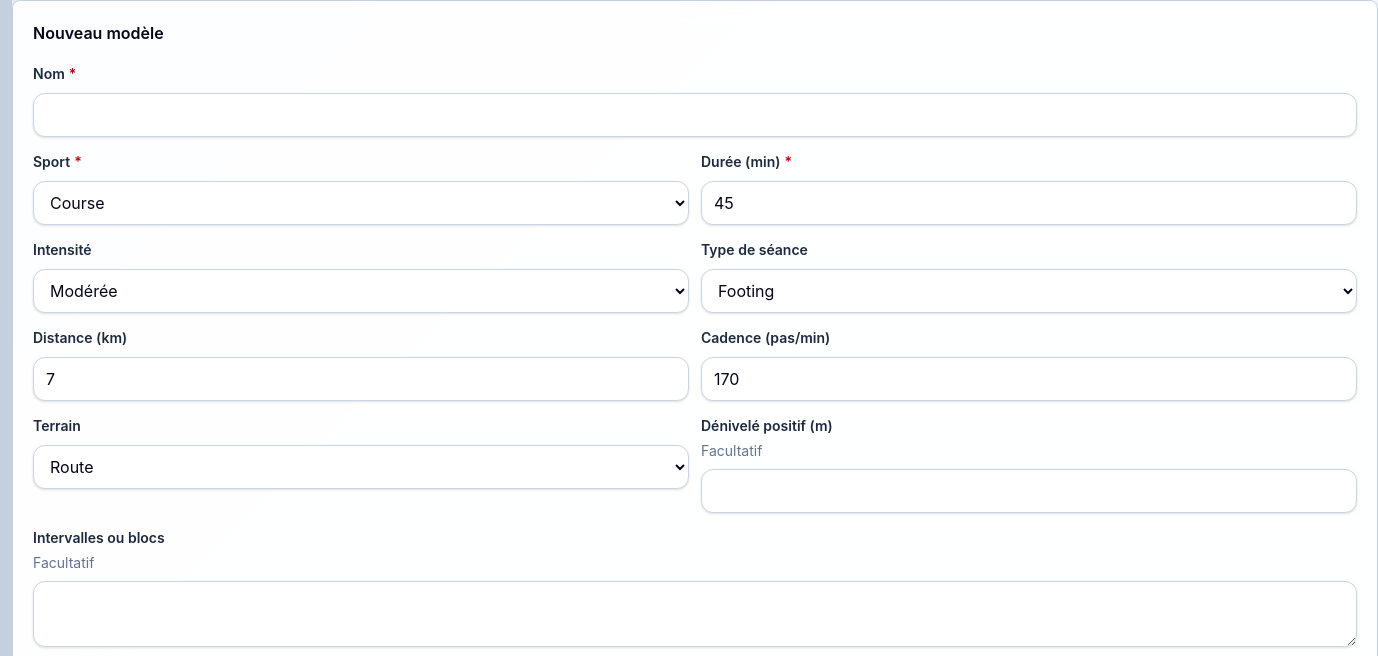
Test case: EnduranceTemplatesPage › affiche les modèles par défaut et enregistre un modèle vélo
Type "Vélo souple" into the field labelled "Nom*" at (695, 115), box [33,93,1357,137]
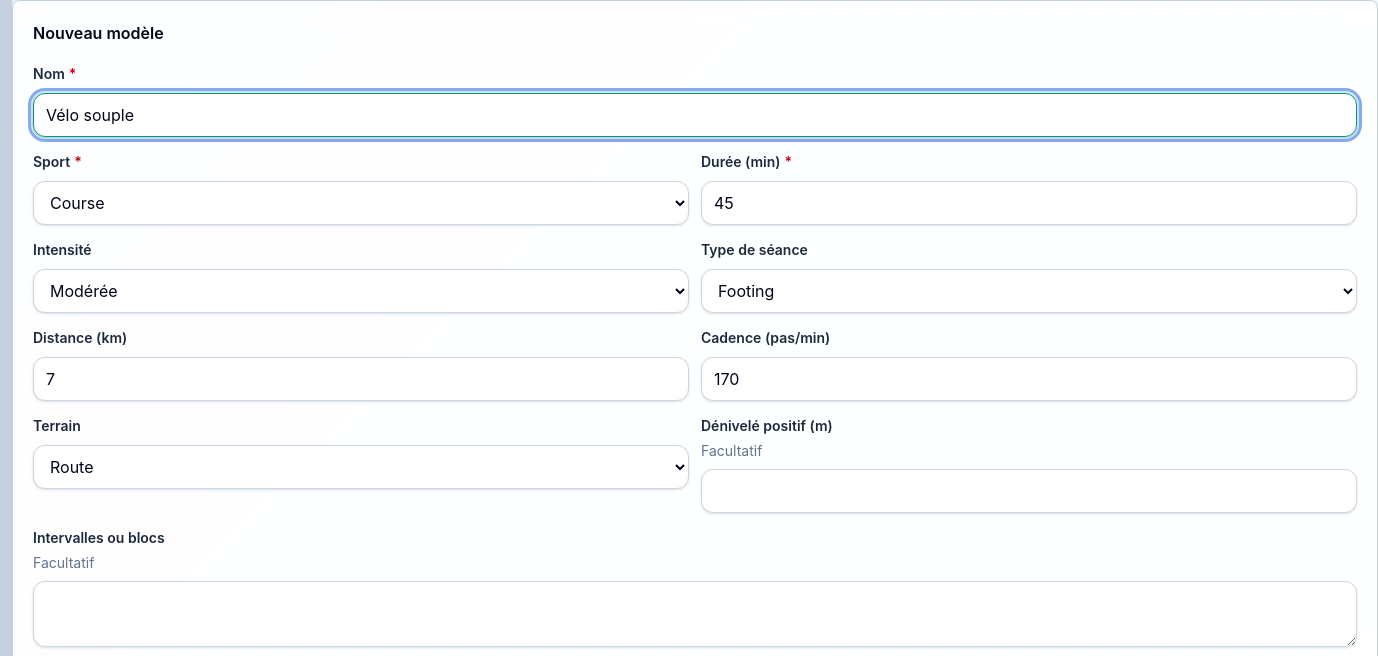
Select "Vélo" in the dropdown labelled "Sport*" at (361, 203), box [33,181,689,225]
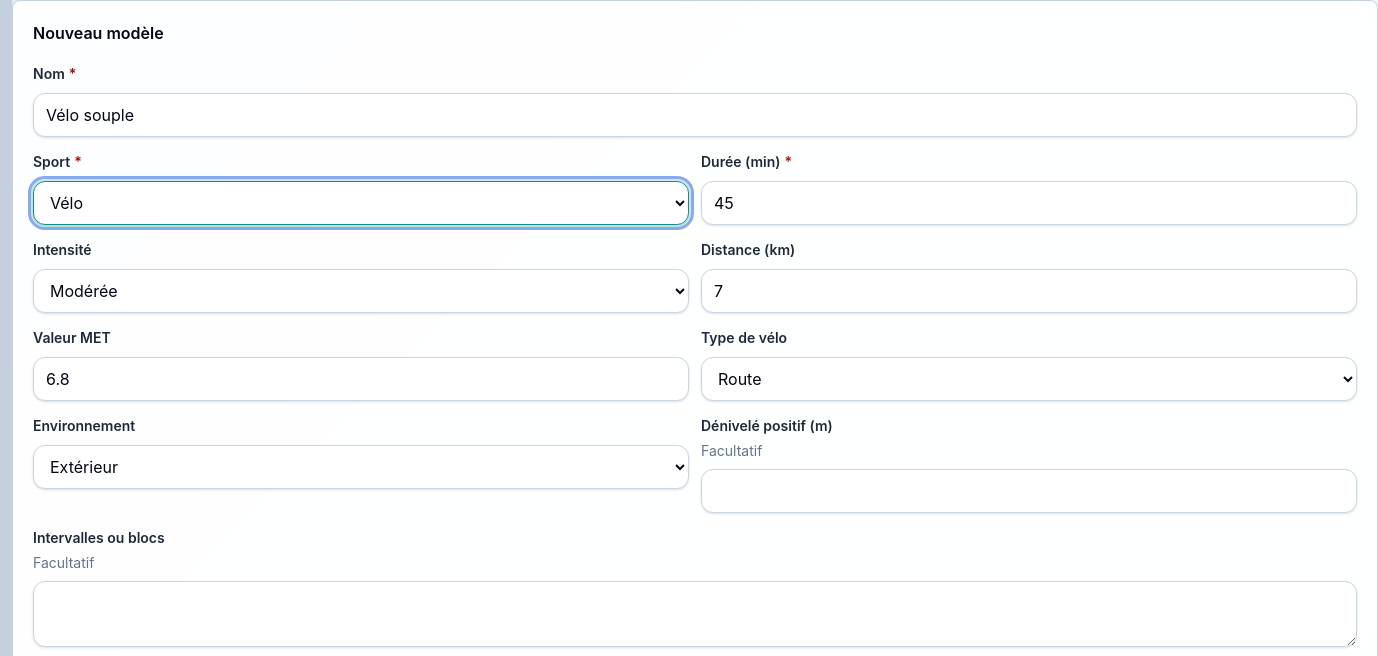
Replace the text in the number field labelled "Durée (min)*" with "75" at (1029, 203), box [701,181,1357,225]
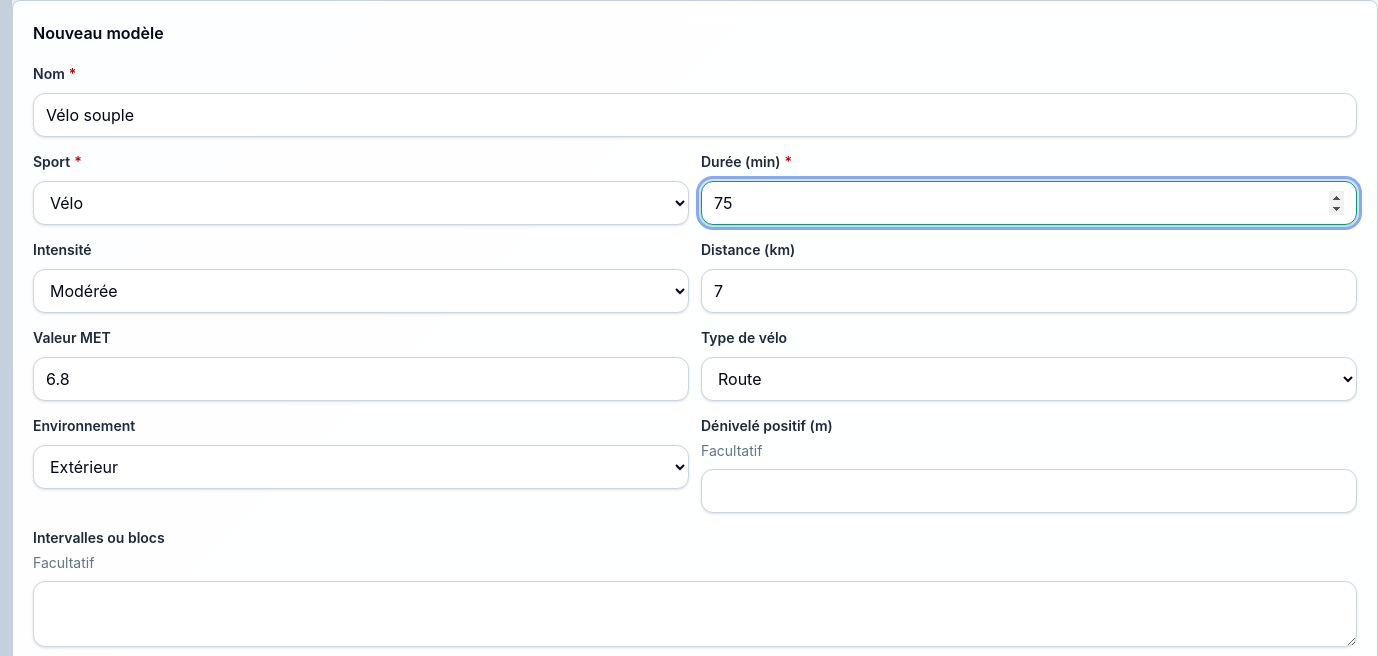
Replace the text in the number field labelled "Distance (km)" with "32" at (1029, 291), box [701,269,1357,313]
(page scrolled)
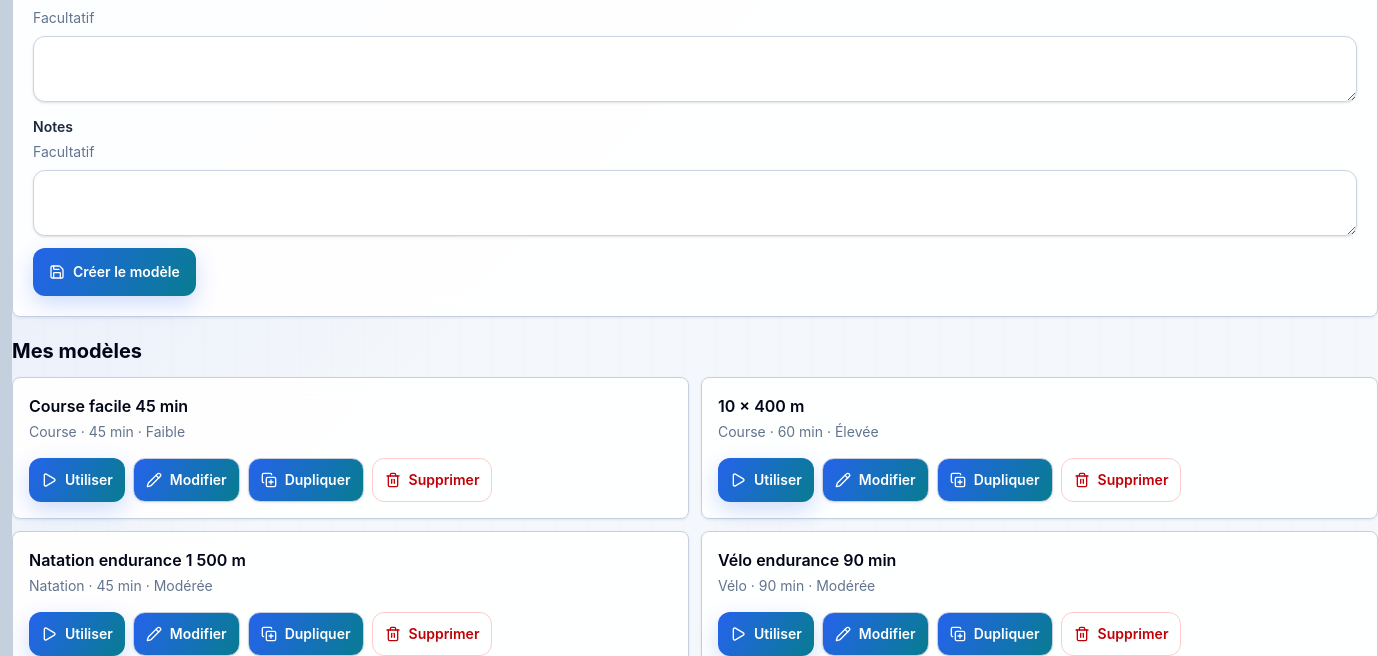
Click the button "Créer le modèle" at (114, 272), box [33,248,196,296]
(page scrolled)
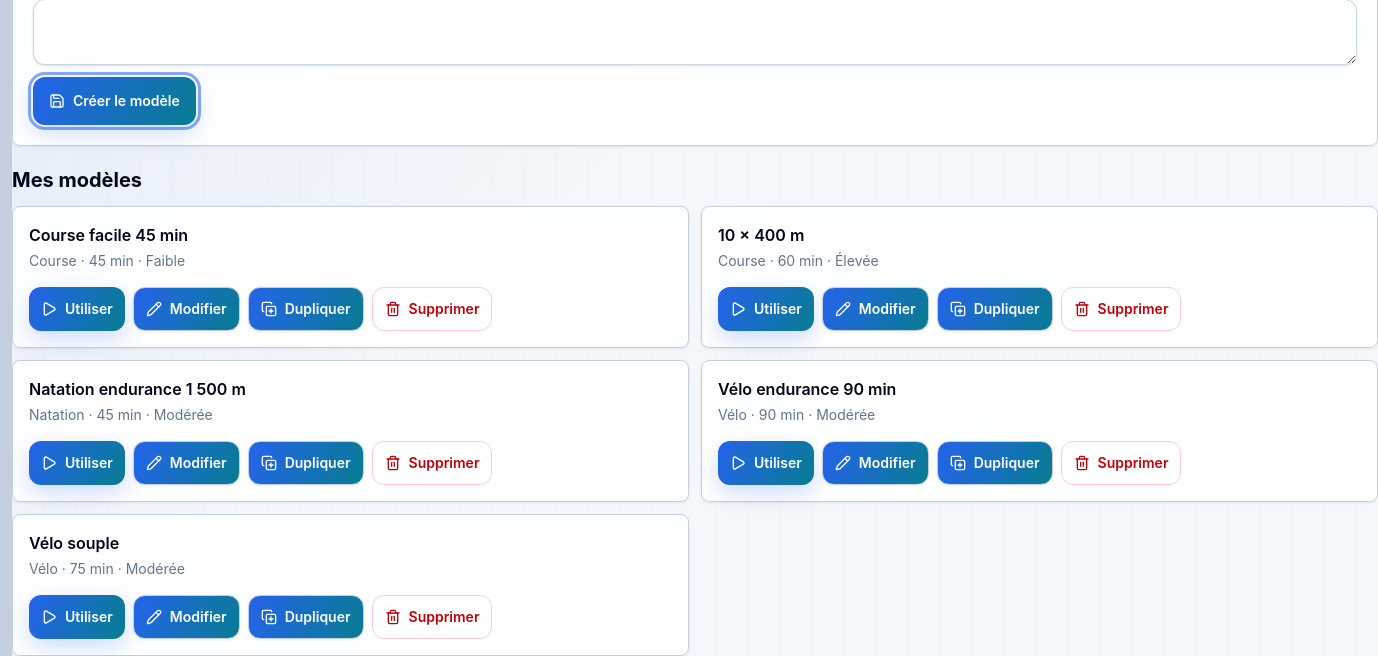
Result: the heading "Vélo souple" is shown at [29,533,119,553]
